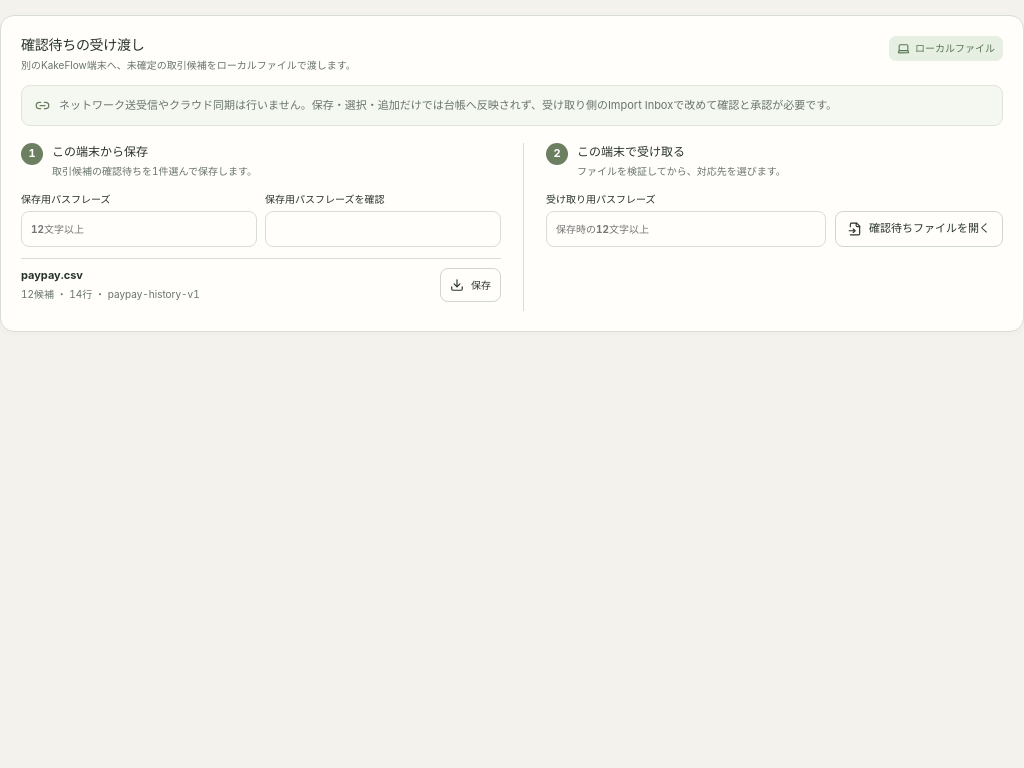
Scenario: PendingImportHandoffPanel › requires explicit compatible account and active-member mappings before adding to review
In the password field labelled "受け取り用パスフレーズ": (686, 229) [546, 211, 826, 247], type "long-enough-passphrase"
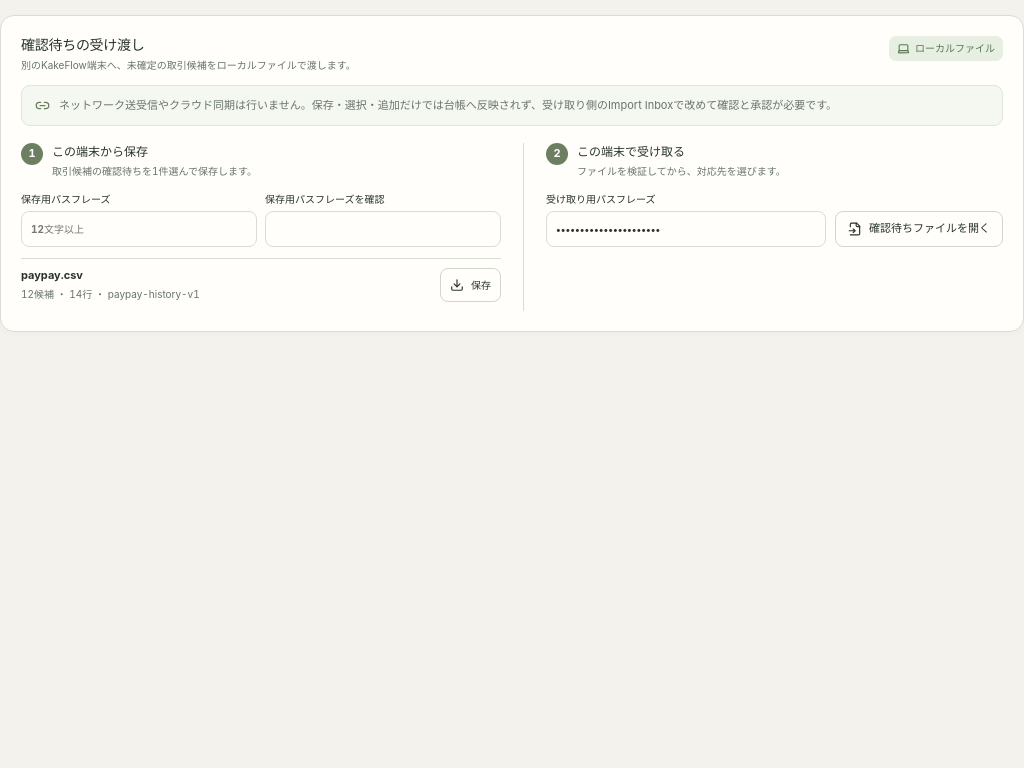
Click the button "確認待ちファイルを開く": (919, 229) [835, 211, 1003, 247]
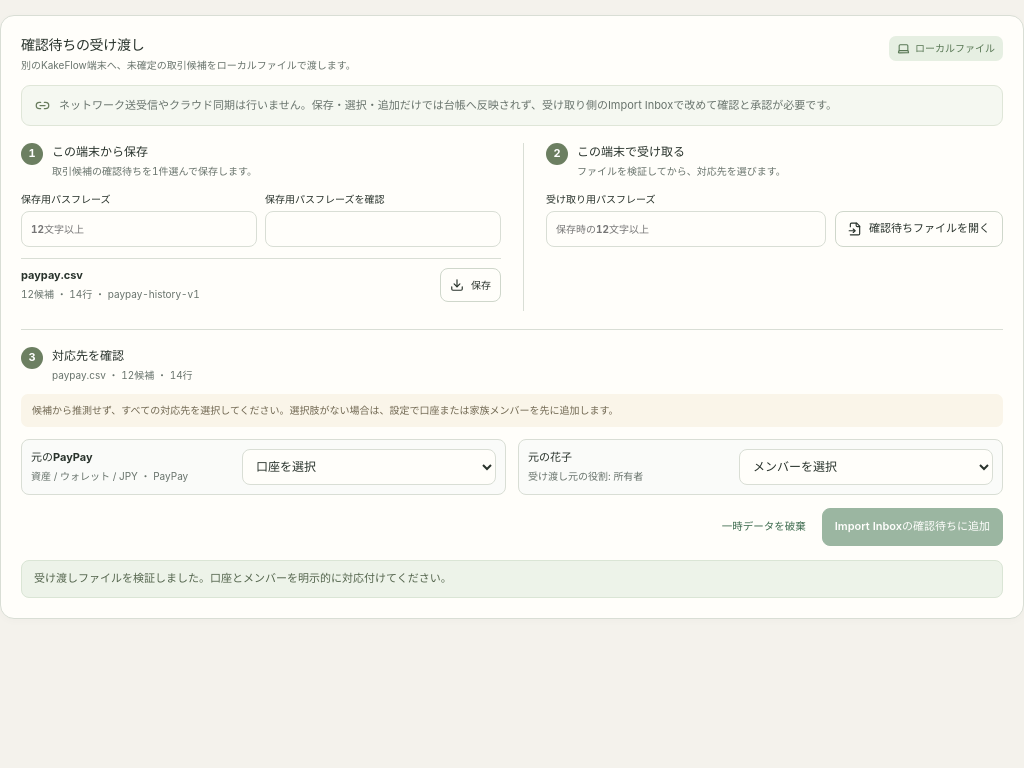
Check: the heading "対応先を確認" is shown, box [52, 348, 124, 363]
Check: the dropdown named "元のPayPayの対応先口座" shows "口座を選択"
Check: the dropdown named "元の花子の対応先メンバー" shows "メンバーを選択", box [739, 449, 993, 485]
Select "PayPay" in the dropdown named "元のPayPayの対応先口座": (369, 467) [242, 449, 496, 485]
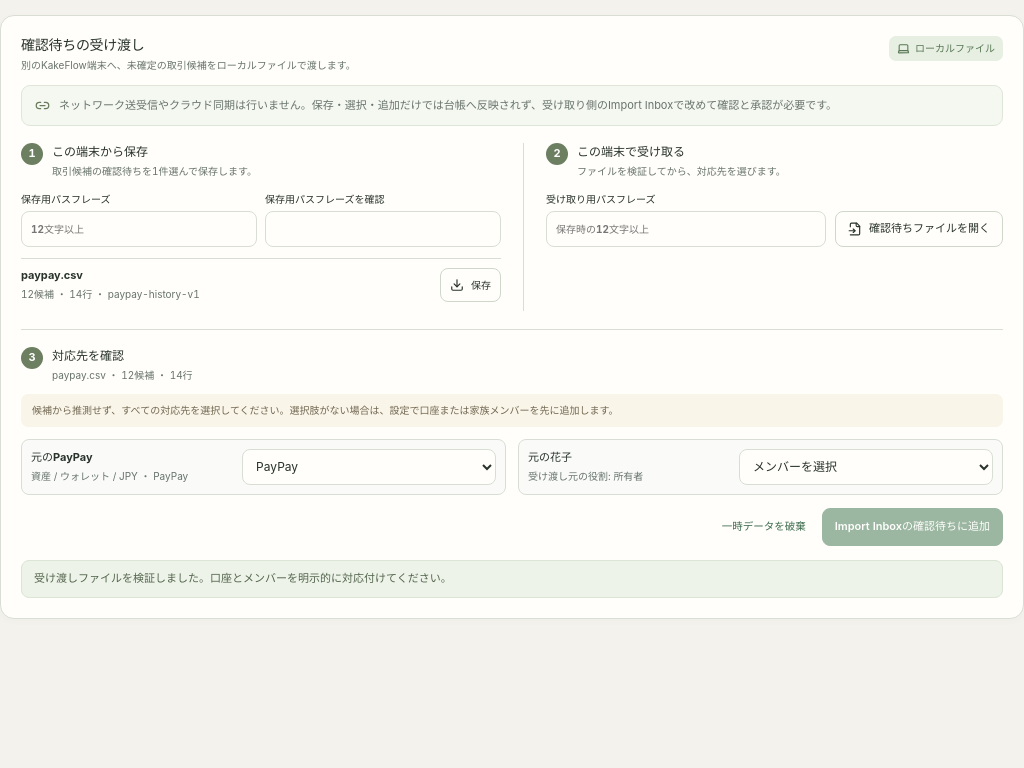
Check: the button "Import Inboxの確認待ちに追加" is disabled, box [822, 508, 1003, 546]
Select "花子" in the dropdown named "元の花子の対応先メンバー": (866, 467) [739, 449, 993, 485]
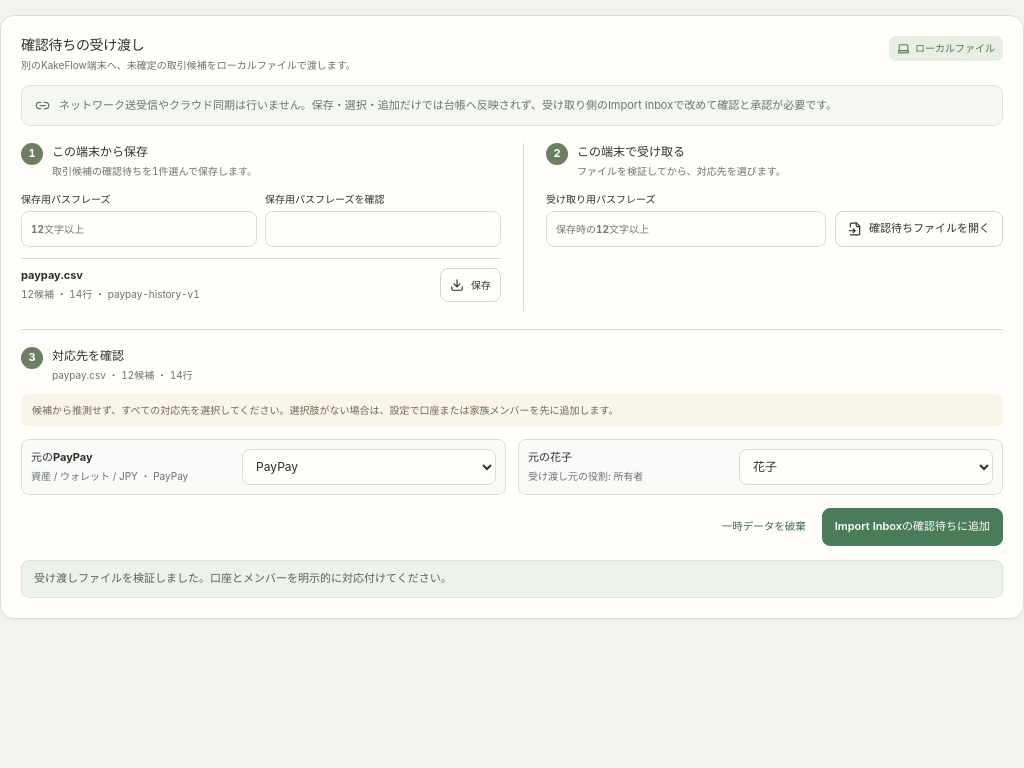
Check: the button "Import Inboxの確認待ちに追加" is enabled
Click the button "Import Inboxの確認待ちに追加": (912, 527) [822, 508, 1003, 546]
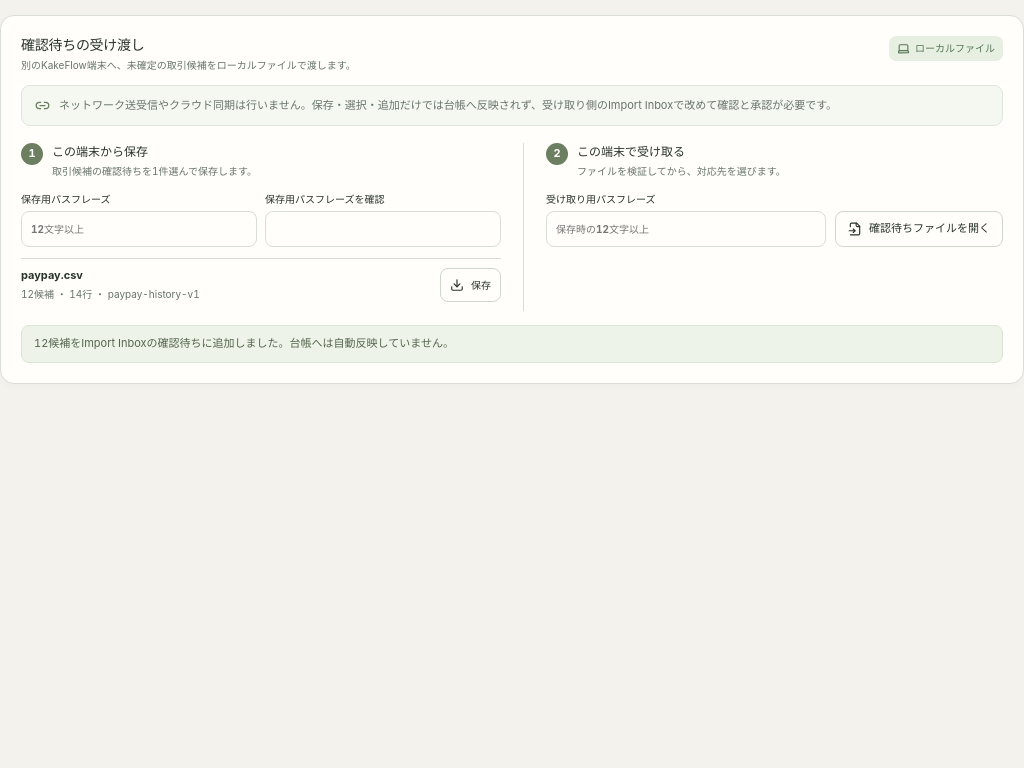
Check: the text "台帳へは自動反映していません" is shown, box [34, 336, 454, 350]
